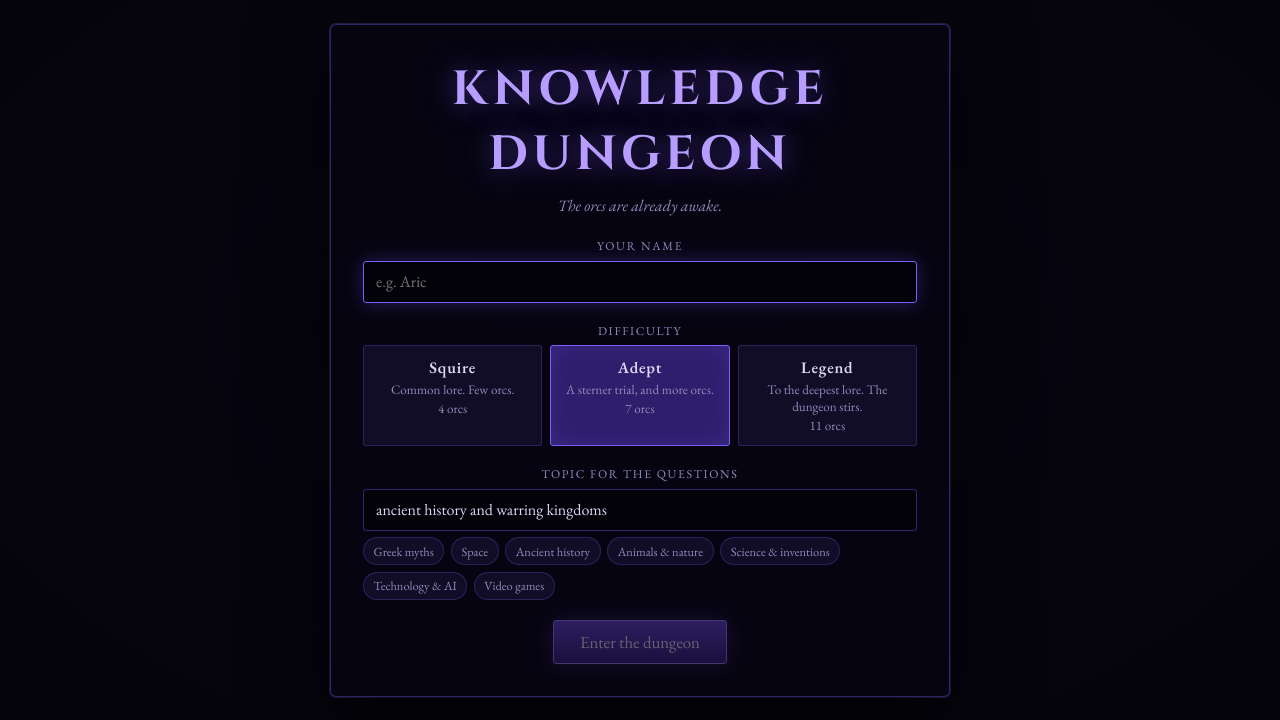
Test: SetupScreen › offers a technology and AI preset
Click the button with test id "topic-preset-tech" at (415, 586), box left=363, top=572, right=467, bottom=600
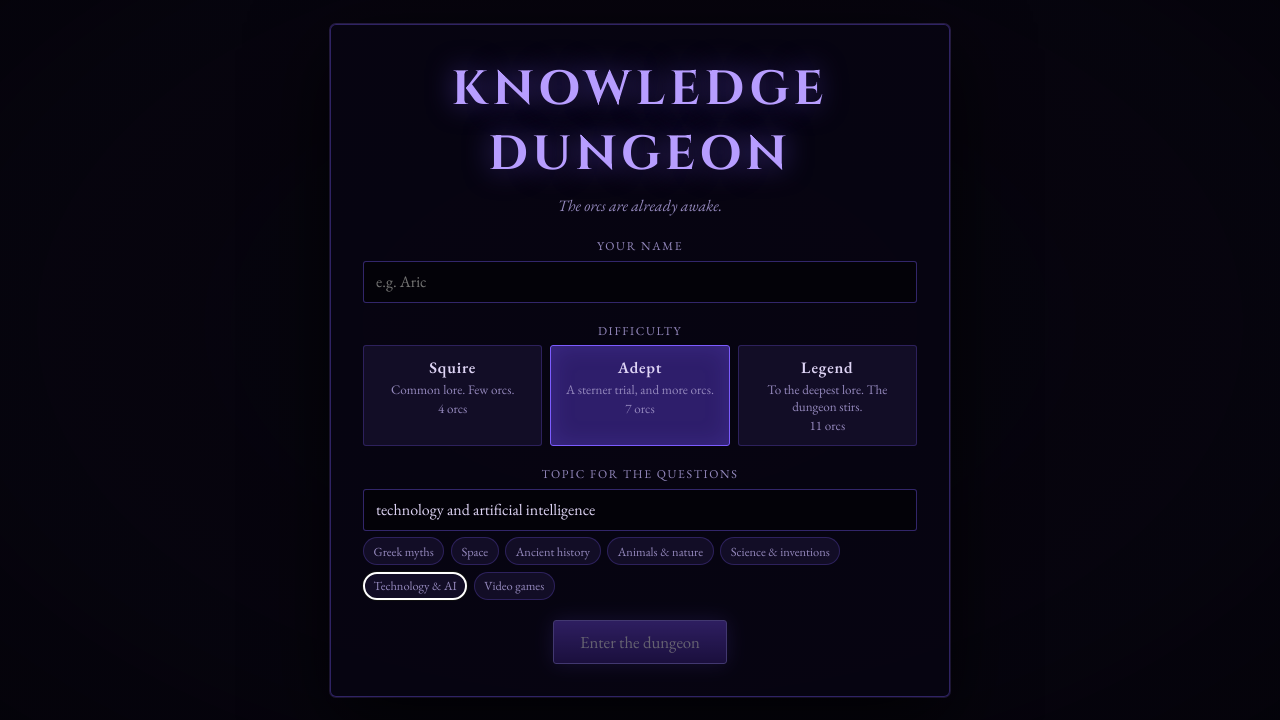
Now the field with test id "topic-input" holds "technology and artificial intelligence", box left=363, top=489, right=917, bottom=531
